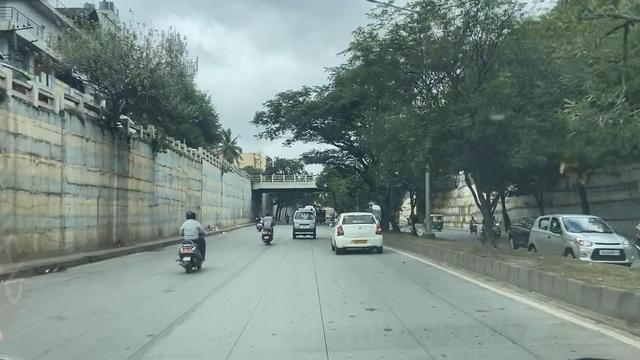LMV: (331, 206, 386, 257), (178, 209, 208, 271)
